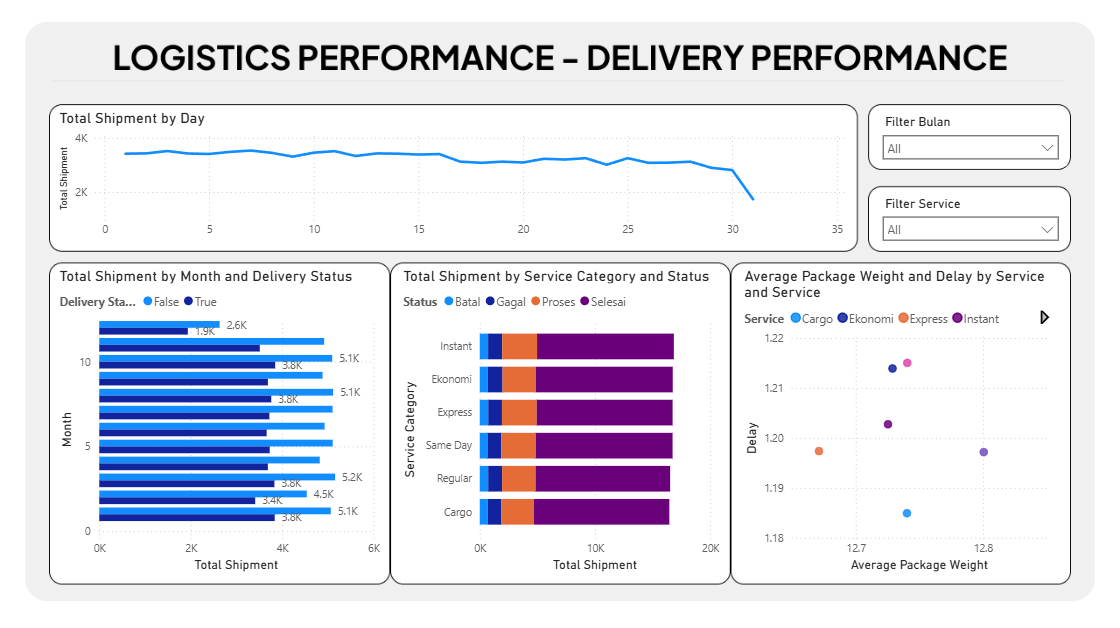

Layout of this report page (visuals, bound fields, positions):
{"tool":"powerbi","page":{"name":"Delivery Performance","canvas":[1280,720],"ordinal":1},"visuals":[{"type":"lineChart","fields":{"Category":["dw vw_DeliveryPerformanceSummary.transaction_date.Variation.Date Hierarchy.Day"],"Y":["Sum(dw vw_DeliveryPerformanceSummary.total_shipment)"]},"box":[62.5,126.2,908.8,156.2],"z":0},{"type":"clusteredBarChart","fields":{"Category":["dw vw_DeliveryPerformanceSummary.transaction_month_num"],"Y":["Sum(dw vw_DeliveryPerformanceSummary.total_shipment)"],"Series":["dw vw_DeliveryPerformanceSummary.is_late"]},"box":[62.5,306.2,376.2,353.8],"z":1000},{"type":"barChart","fields":{"Category":["dw vw_DeliveryPerformanceSummary.service_name"],"Y":["Sum(dw vw_DeliveryPerformanceSummary.total_shipment)"],"Series":["dw vw_DeliveryPerformanceSummary.status_category"]},"box":[456.2,306.2,371.2,353.8],"z":2000},{"type":"scatterChart","fields":{"X":["Avg(dw vw_DeliveryPerformanceSummary.package_weight)"],"Y":["Avg(dw vw_DeliveryPerformanceSummary.delay_days)"],"Category":["dw vw_DeliveryPerformanceSummary.service_name"],"Series":["dw vw_DeliveryPerformanceSummary.service_name"]},"box":[845,306.2,367.5,353.8],"z":3000},{"type":"slicer","fields":{"Values":["dw vw_DeliveryPerformanceSummary.transaction_month"]},"box":[998.3,126.7,220.8,63.3],"z":4000},{"type":"slicer","fields":{"Values":["dw vw_DeliveryPerformanceSummary.service_name"]},"box":[998.3,220,220.8,63.3],"z":5000}]}

Visuals, with their boxes in screenshot pixels (x1, y1, x2, y2), scaled from the page's 1280x720 canvas onto the 1120x628 screenshot:
lineChart - dw vw_DeliveryPerformanceSummary.transaction_date.Variation.Date Hierarchy.Day x Sum(dw vw_DeliveryPerformanceSummary.total_shipment): Rect(55, 110, 850, 246)
clusteredBarChart - dw vw_DeliveryPerformanceSummary.transaction_month_num x Sum(dw vw_DeliveryPerformanceSummary.total_shipment): Rect(55, 267, 384, 576)
barChart - dw vw_DeliveryPerformanceSummary.service_name x Sum(dw vw_DeliveryPerformanceSummary.total_shipment): Rect(399, 267, 724, 576)
scatterChart - Avg(dw vw_DeliveryPerformanceSummary.package_weight) x Avg(dw vw_DeliveryPerformanceSummary.delay_days): Rect(739, 267, 1061, 576)
slicer - dw vw_DeliveryPerformanceSummary.transaction_month: Rect(874, 111, 1067, 166)
slicer - dw vw_DeliveryPerformanceSummary.service_name: Rect(874, 192, 1067, 247)
